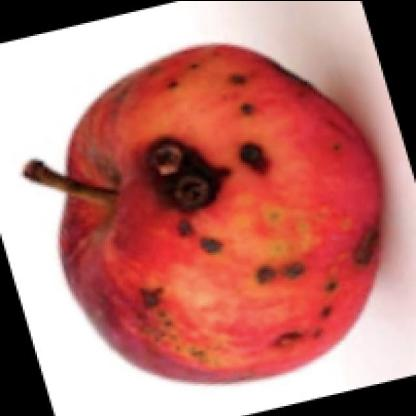defect: (106, 201, 382, 365), (135, 60, 303, 218)
